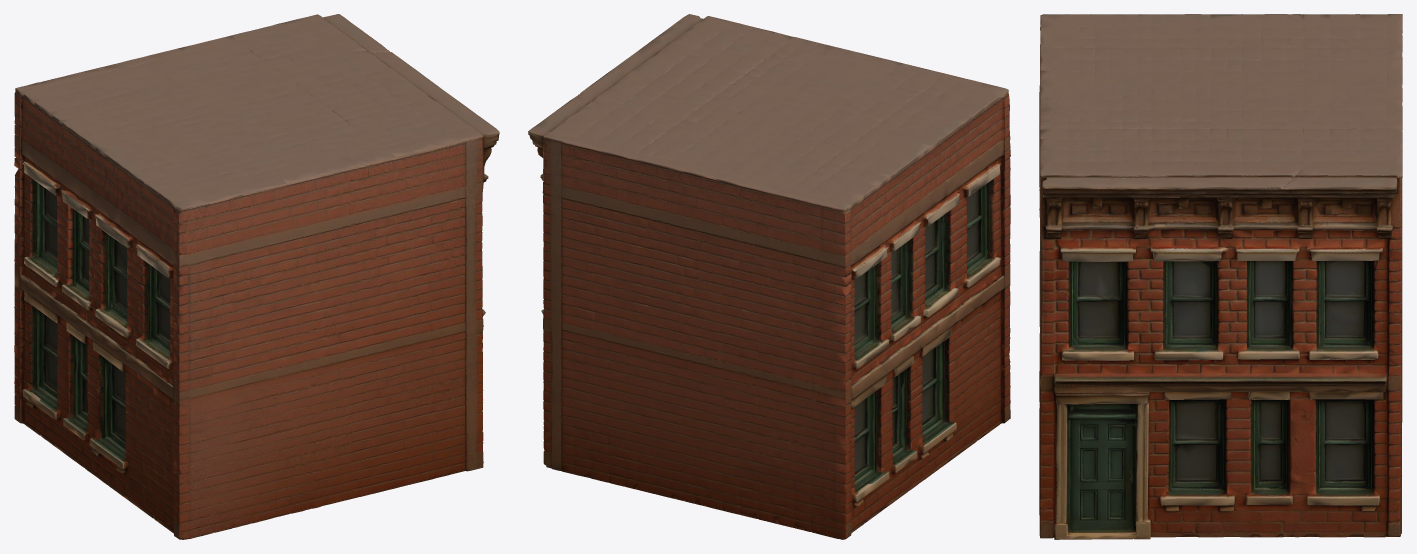
File: building3d8.glb
3 views of the same model, side by side, from view 1: azimuth 30°, elevation 25°; view 2: azimuth 150°, elevation 25°; view 3: azimuth 270°, elevation 25° (orthographic). The views are drawn at different scales.
Visible parts, largest first — view 1: tripo_node_7638631c-5500-4c24-a3f4-96c34c02b275; view 2: tripo_node_7638631c-5500-4c24-a3f4-96c34c02b275; view 3: tripo_node_7638631c-5500-4c24-a3f4-96c34c02b275.
Part boxes in pixels (x1,y1,x2,y2): tripo_node_7638631c-5500-4c24-a3f4-96c34c02b275: (14,14,499,539); tripo_node_7638631c-5500-4c24-a3f4-96c34c02b275: (528,14,1010,539); tripo_node_7638631c-5500-4c24-a3f4-96c34c02b275: (1039,14,1402,539).
Bounding box in the file's own units: 1 × 0.9799 × 0.8885.
Materials: 1 (1 with a texture image).
